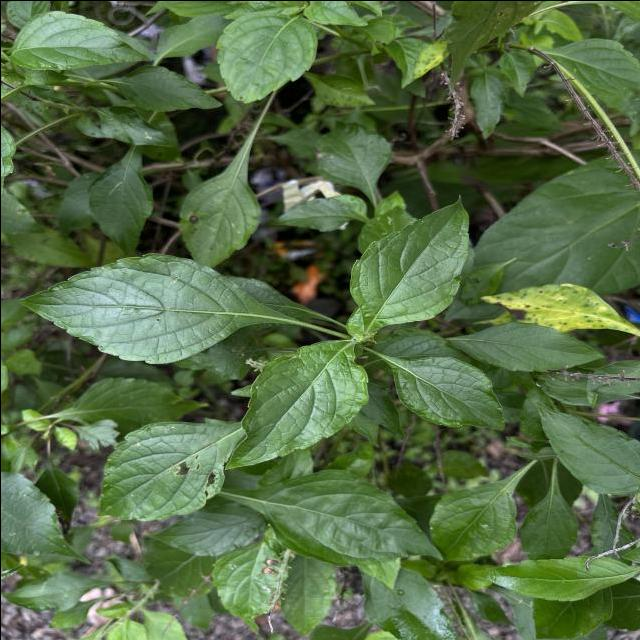Ocimum gratissimum: (13, 248, 308, 364), (243, 464, 447, 568), (221, 336, 370, 472), (346, 192, 472, 343), (92, 418, 244, 522), (176, 112, 264, 262), (533, 397, 640, 499), (212, 8, 321, 104), (383, 348, 507, 432), (465, 551, 640, 603), (6, 8, 152, 70), (443, 319, 610, 373), (84, 144, 156, 258), (105, 63, 224, 112)
